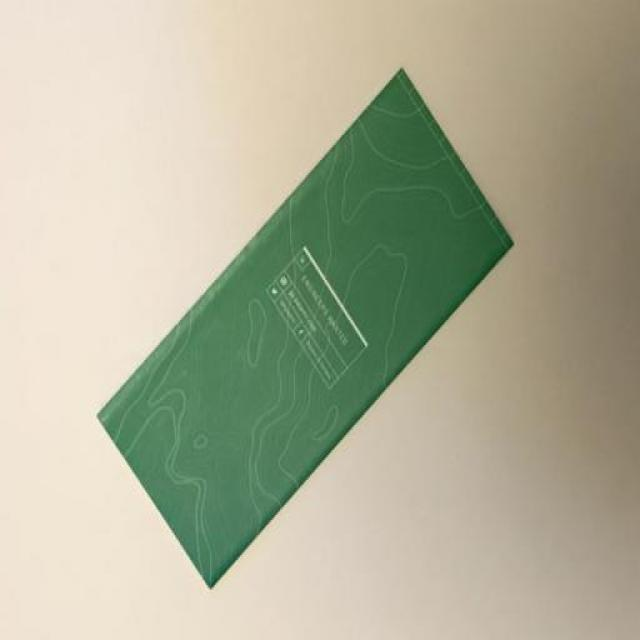paper: (89, 53, 518, 596)
